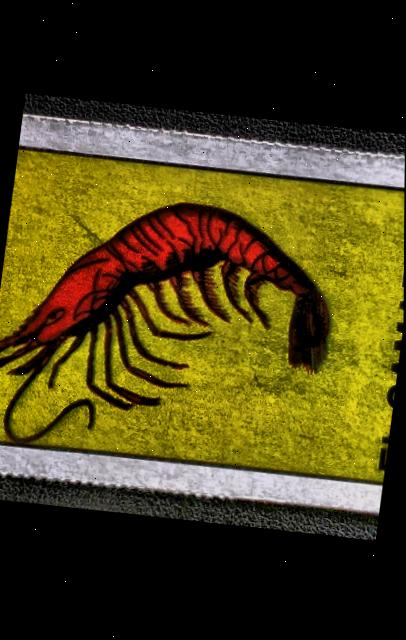El Camaron: (0, 117, 405, 508)
